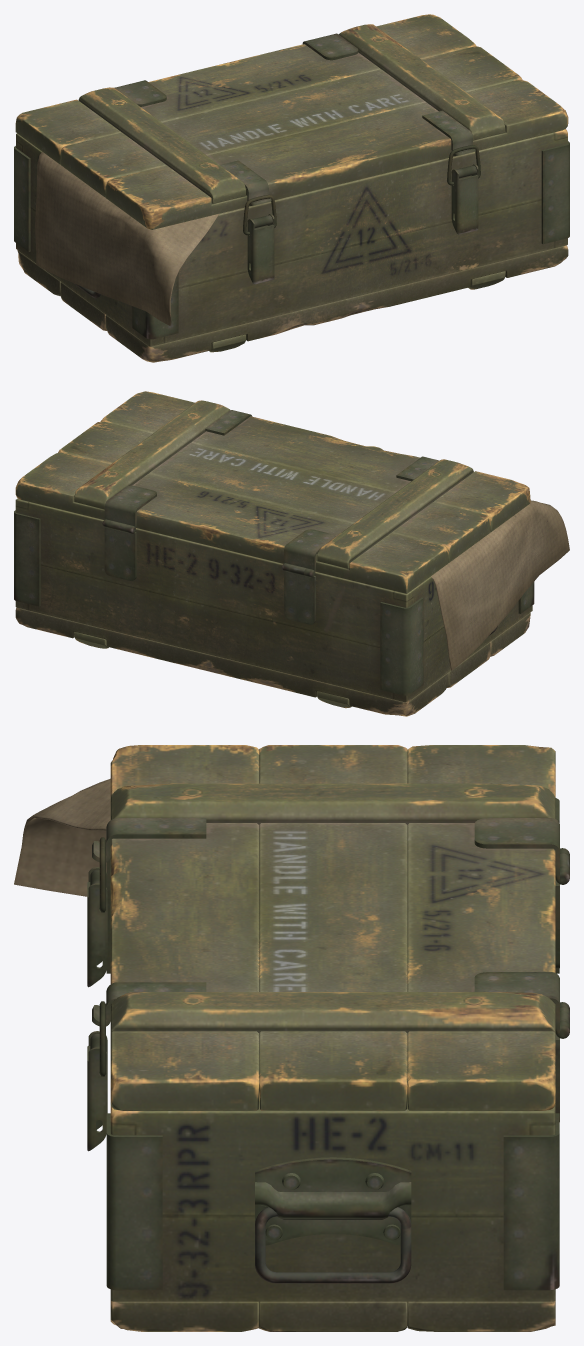
File: old_military_crate.obj
3 renders of one model, top to bottom at view 1: azimuth 30°, elevation 25°; view 2: azimuth 150°, elevation 25°; view 3: azimuth 270°, elevation 25°, orthographic. The views are drawn at different scales.
Visible parts, largest first — view 1: old_military_crate_lid_a, old_military_crate_a, old_military_crate_cloth_a, old_military_crate_latch_a, old_military_crate_loop_a; view 2: old_military_crate_lid_a, old_military_crate_a, old_military_crate_cloth_a; view 3: old_military_crate_lid_a, old_military_crate_a, old_military_crate_cloth_a, old_military_crate_latch_a, old_military_crate_loop_a.
Boxes of the visible parts, x1=… form: old_military_crate_lid_a: x1=15, y1=14, x2=568, y2=230; old_military_crate_a: x1=14, y1=129, x2=569, y2=362; old_military_crate_cloth_a: x1=35, y1=152, x2=219, y2=325; old_military_crate_latch_a: x1=247, y1=164, x2=478, y2=284; old_military_crate_loop_a: x1=243, y1=145, x2=480, y2=235; old_military_crate_lid_a: x1=15, y1=391, x2=530, y2=593; old_military_crate_a: x1=14, y1=498, x2=534, y2=716; old_military_crate_cloth_a: x1=431, y1=500, x2=569, y2=670; old_military_crate_lid_a: x1=92, y1=745, x2=569, y2=1110; old_military_crate_a: x1=106, y1=798, x2=569, y2=1331; old_military_crate_cloth_a: x1=14, y1=778, x2=110, y2=896; old_military_crate_latch_a: x1=87, y1=867, x2=107, y2=1151; old_military_crate_loop_a: x1=99, y1=837, x2=105, y2=1076.
Bounding box in the file's own units: 0.8154 × 0.3009 × 0.5376.
1 material, 1 textured.
